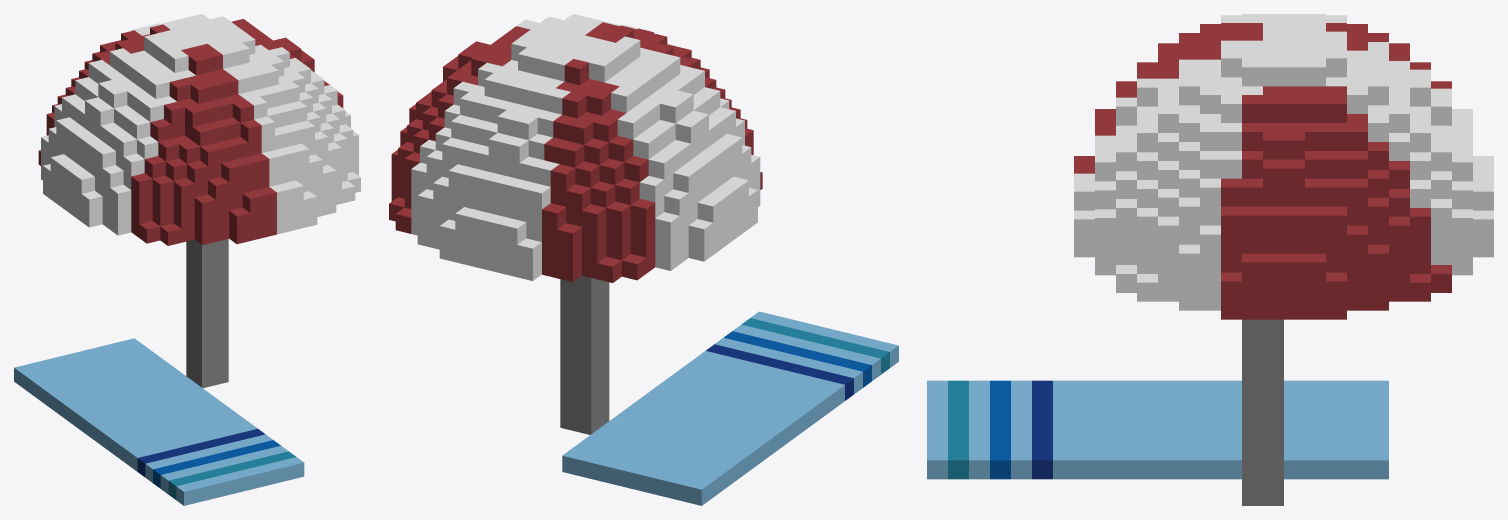
File: id-beach-umbrella.obj
The picture shows the model from 3 angles, left to right: view 1: azimuth 30°, elevation 25°; view 2: azimuth 150°, elevation 25°; view 3: azimuth 270°, elevation 25°; orthographic projection. The views are drawn at different scales.
Size of the model in its own units: 21 by 24 by 27.
1 material, 1 textured.
